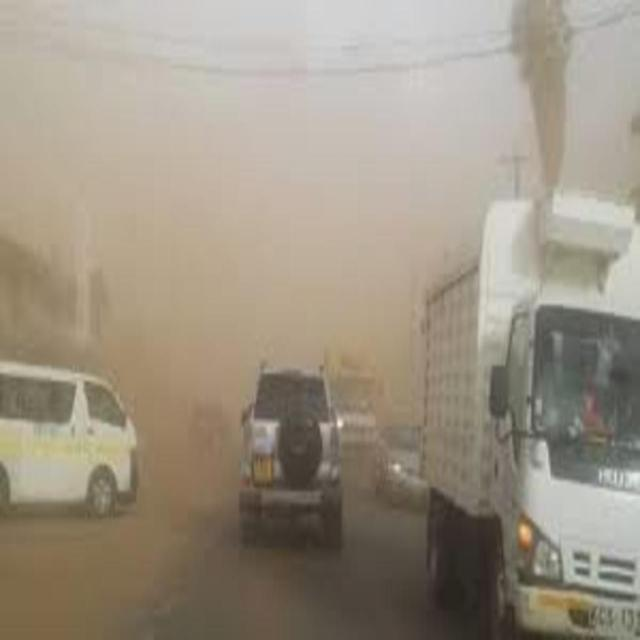bus: (421, 194, 638, 636), (323, 348, 377, 454)
car: (242, 366, 350, 552), (371, 424, 426, 511)
truck: (2, 362, 142, 520)
